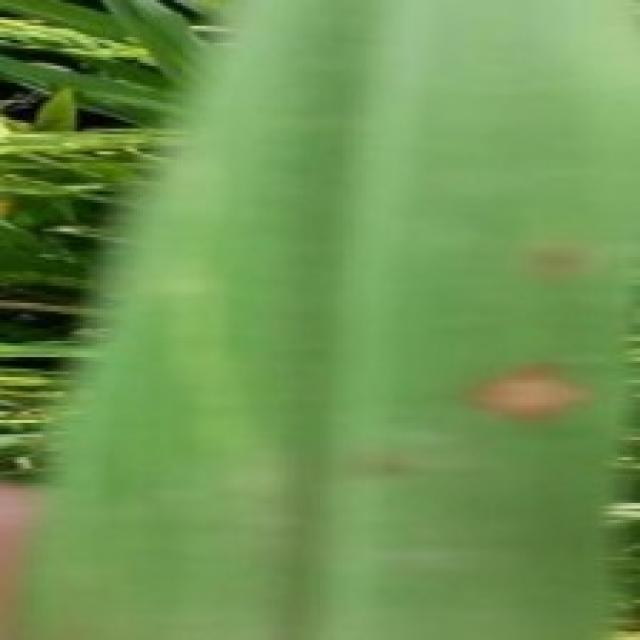Unhealthy: (469, 366, 597, 429), (523, 234, 591, 286)
